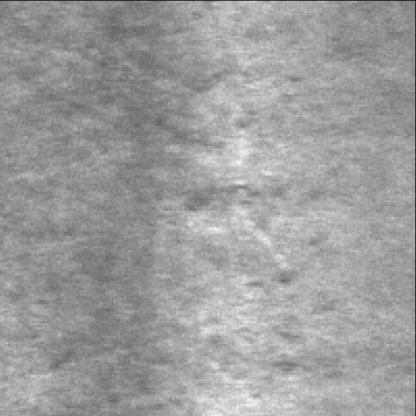rolled-in_scale: (229, 272, 329, 380)
